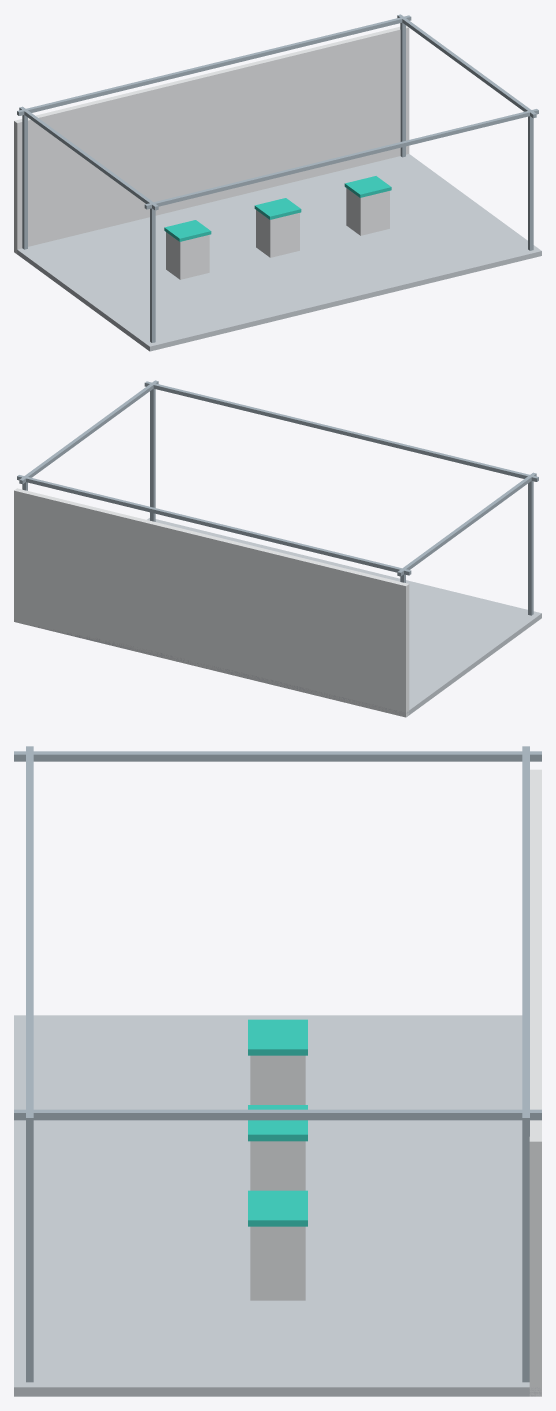
3 views of the same model, one above another, from view 1: azimuth 30°, elevation 25°; view 2: azimuth 150°, elevation 25°; view 3: azimuth 270°, elevation 25° (orthographic). The views are drawn at different scales.
Parts seen in each view (by area): view 1: Exhibition Booth Concept; view 2: Exhibition Booth Concept; view 3: Exhibition Booth Concept.
Part boxes in pixels (x1,y1,x2,y2): Exhibition Booth Concept: (14,14,541,351); Exhibition Booth Concept: (14,380,541,717); Exhibition Booth Concept: (14,746,541,1396).
Bounding box in the file's own units: 10 × 3.49 × 6.
